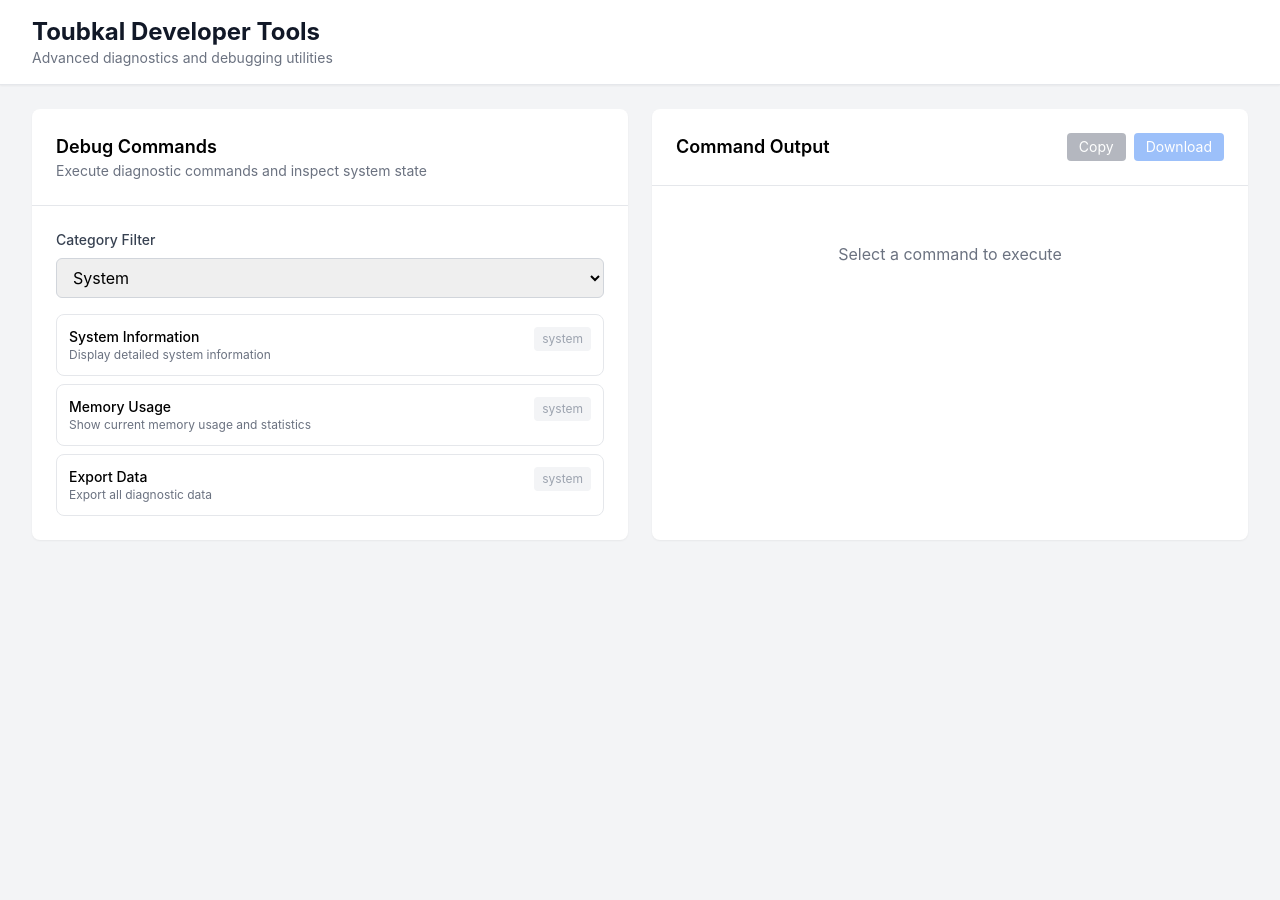
Test case: DeveloperTools › should execute performance metrics command
Note: Change category filter to show all commands
Select "All Categories" in the dropdown showing "System": (330, 278) [56,258,604,298]
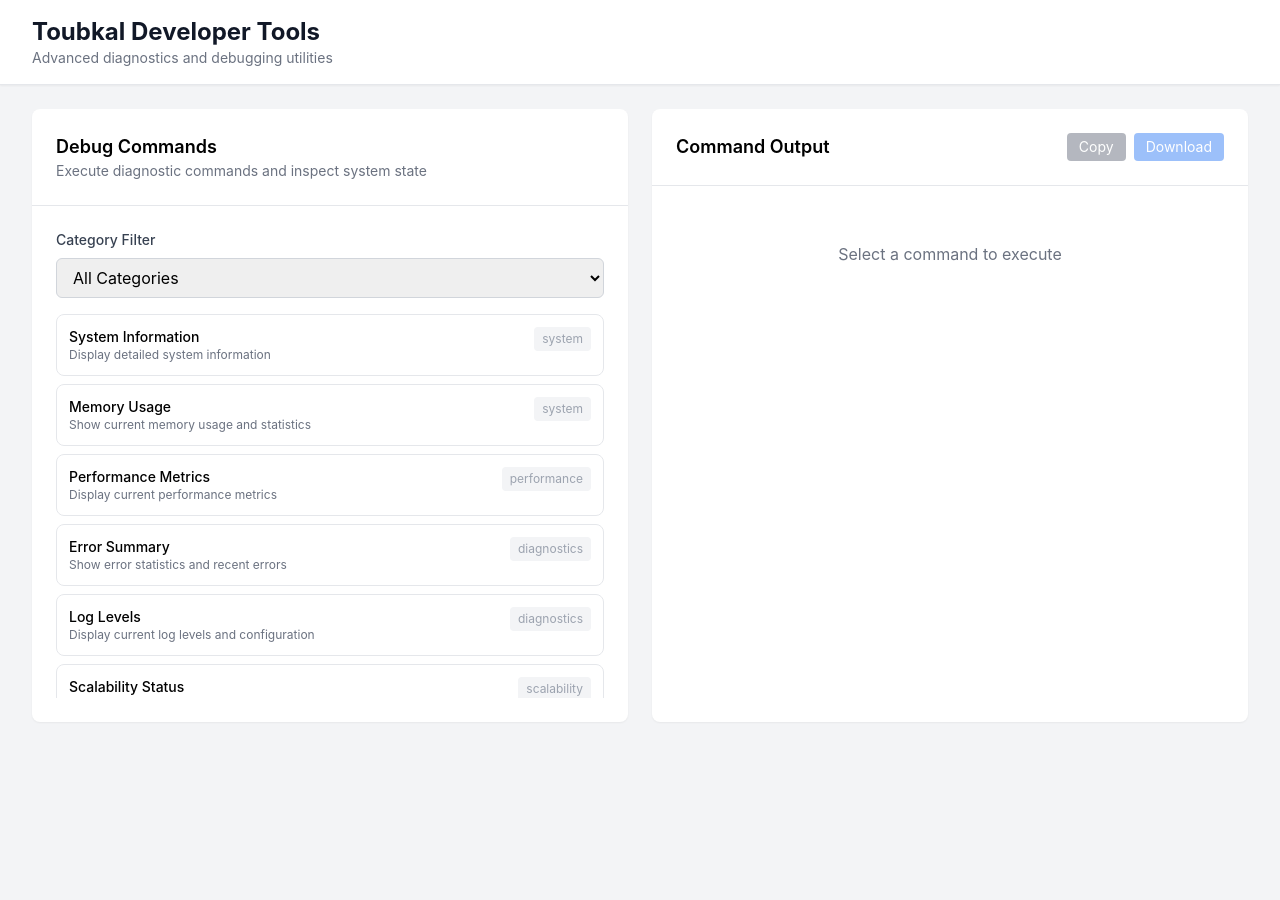
Click the heading "Performance Metrics": (140, 476) [69,468,210,485]
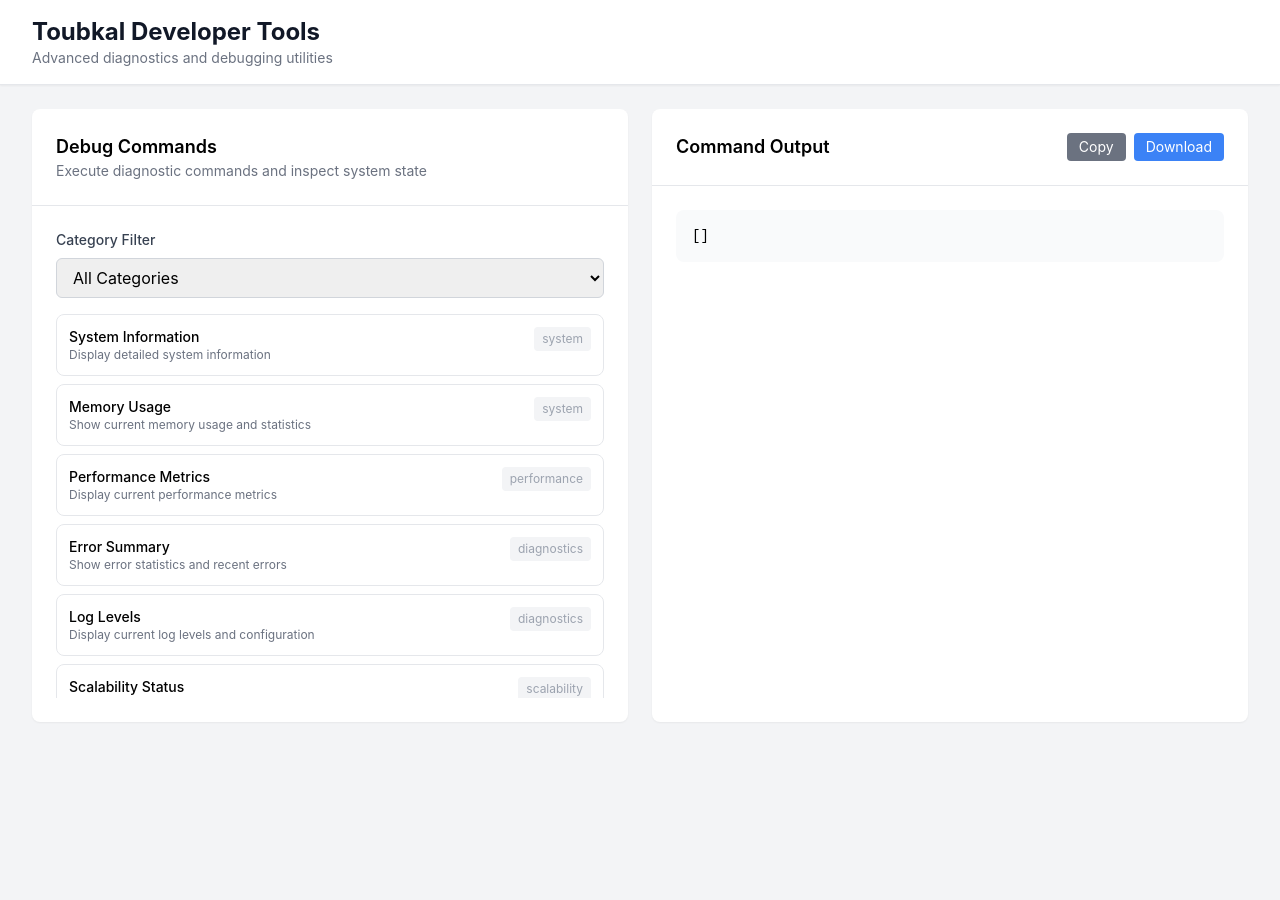
Check: the text "[]" is shown, box [676,210,1224,262]
